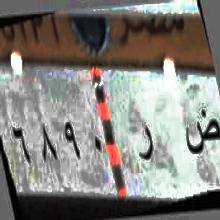0: (93, 128, 103, 163)
6: (11, 120, 33, 177)
8: (40, 118, 58, 168)
9: (63, 119, 80, 166)
daad: (182, 95, 220, 163)
raa: (134, 118, 156, 176)
